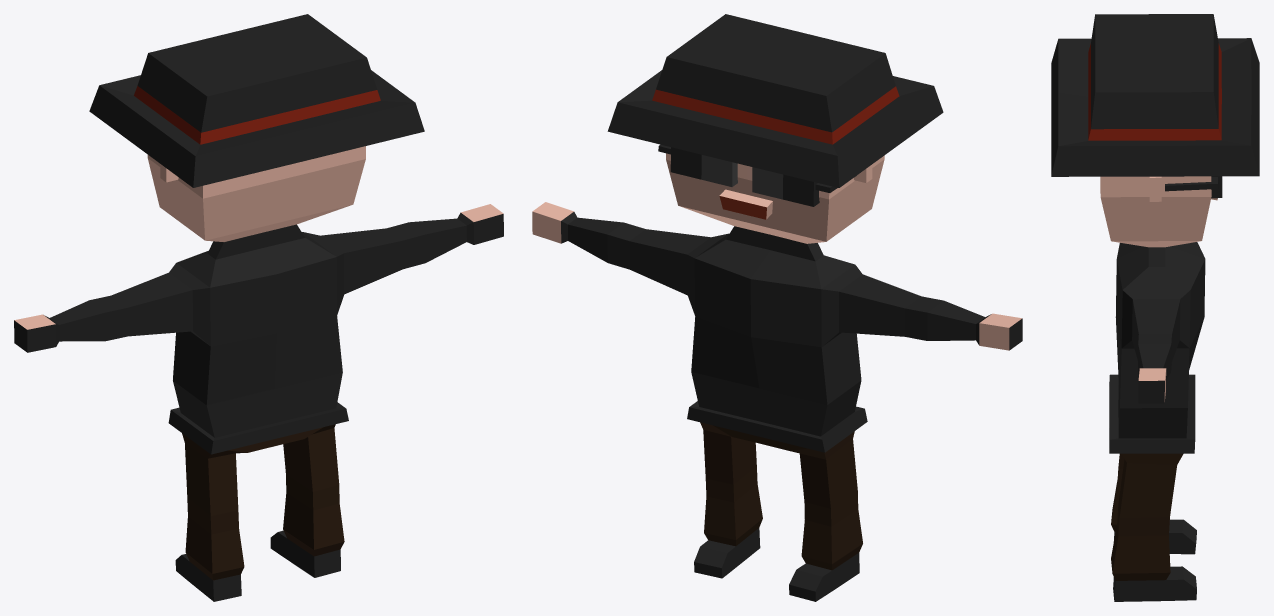
The model's file is MafiaModel.fbx.
The picture shows the model from 3 angles, left to right: view 1: azimuth 30°, elevation 25°; view 2: azimuth 150°, elevation 25°; view 3: azimuth 270°, elevation 25°; orthographic projection.
Parts seen in each view (by area): view 1: Mafia, Mafia hat; view 2: Mafia, Mafia hat, Shades; view 3: Mafia, Mafia hat, Shades.
Boxes of the visible parts, bbox=[...] form: Mafia: bbox=[14, 146, 503, 601]; Mafia hat: bbox=[89, 14, 424, 187]; Mafia: bbox=[532, 153, 1022, 601]; Mafia hat: bbox=[607, 14, 943, 187]; Shades: bbox=[658, 144, 855, 206]; Mafia: bbox=[1100, 176, 1217, 601]; Mafia hat: bbox=[1051, 14, 1259, 176]; Shades: bbox=[1165, 176, 1222, 198].
Size of the model in its own units: 58.85 by 60.99 by 22.26.
